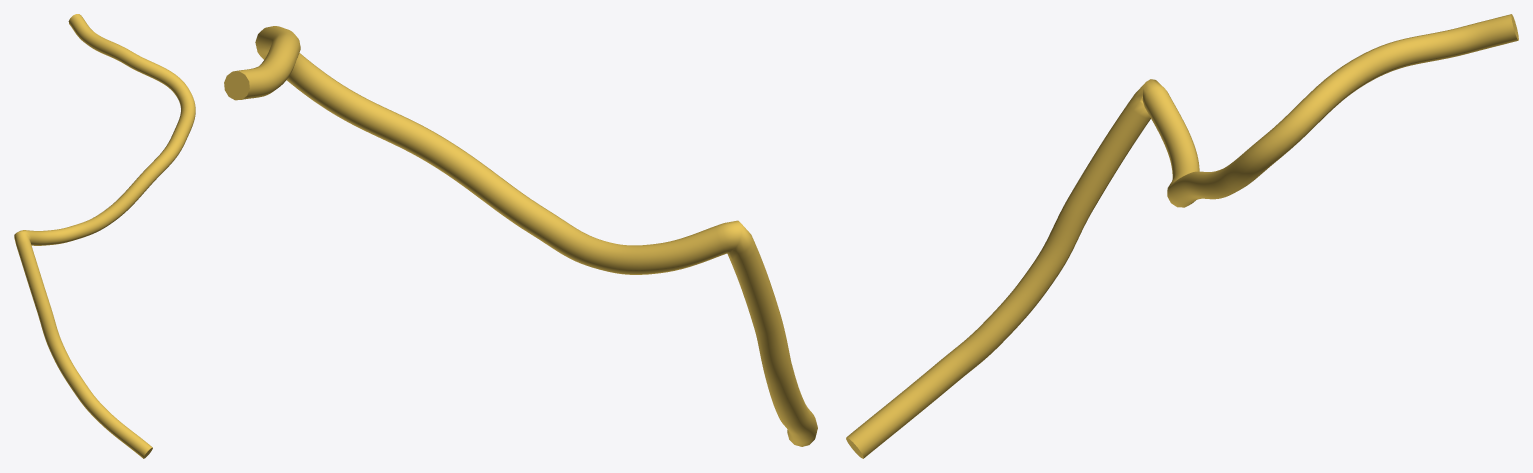
File: Chorda_tympani_left.glb
3 views of the same model, side by side, from view 1: azimuth 30°, elevation 25°; view 2: azimuth 150°, elevation 25°; view 3: azimuth 270°, elevation 25° (orthographic). The views are drawn at different scales.
Visible parts, largest first — view 1: Chorda_tympani.l_BezierCurve.545; view 2: Chorda_tympani.l_BezierCurve.545; view 3: Chorda_tympani.l_BezierCurve.545.
Part boxes in pixels (x1,y1,x2,y2): Chorda_tympani.l_BezierCurve.545: [14, 14, 195, 458]; Chorda_tympani.l_BezierCurve.545: [224, 26, 817, 446]; Chorda_tympani.l_BezierCurve.545: [846, 14, 1518, 458].
Size of the model in its own units: 0.0162 by 0.0214 by 0.0242.
